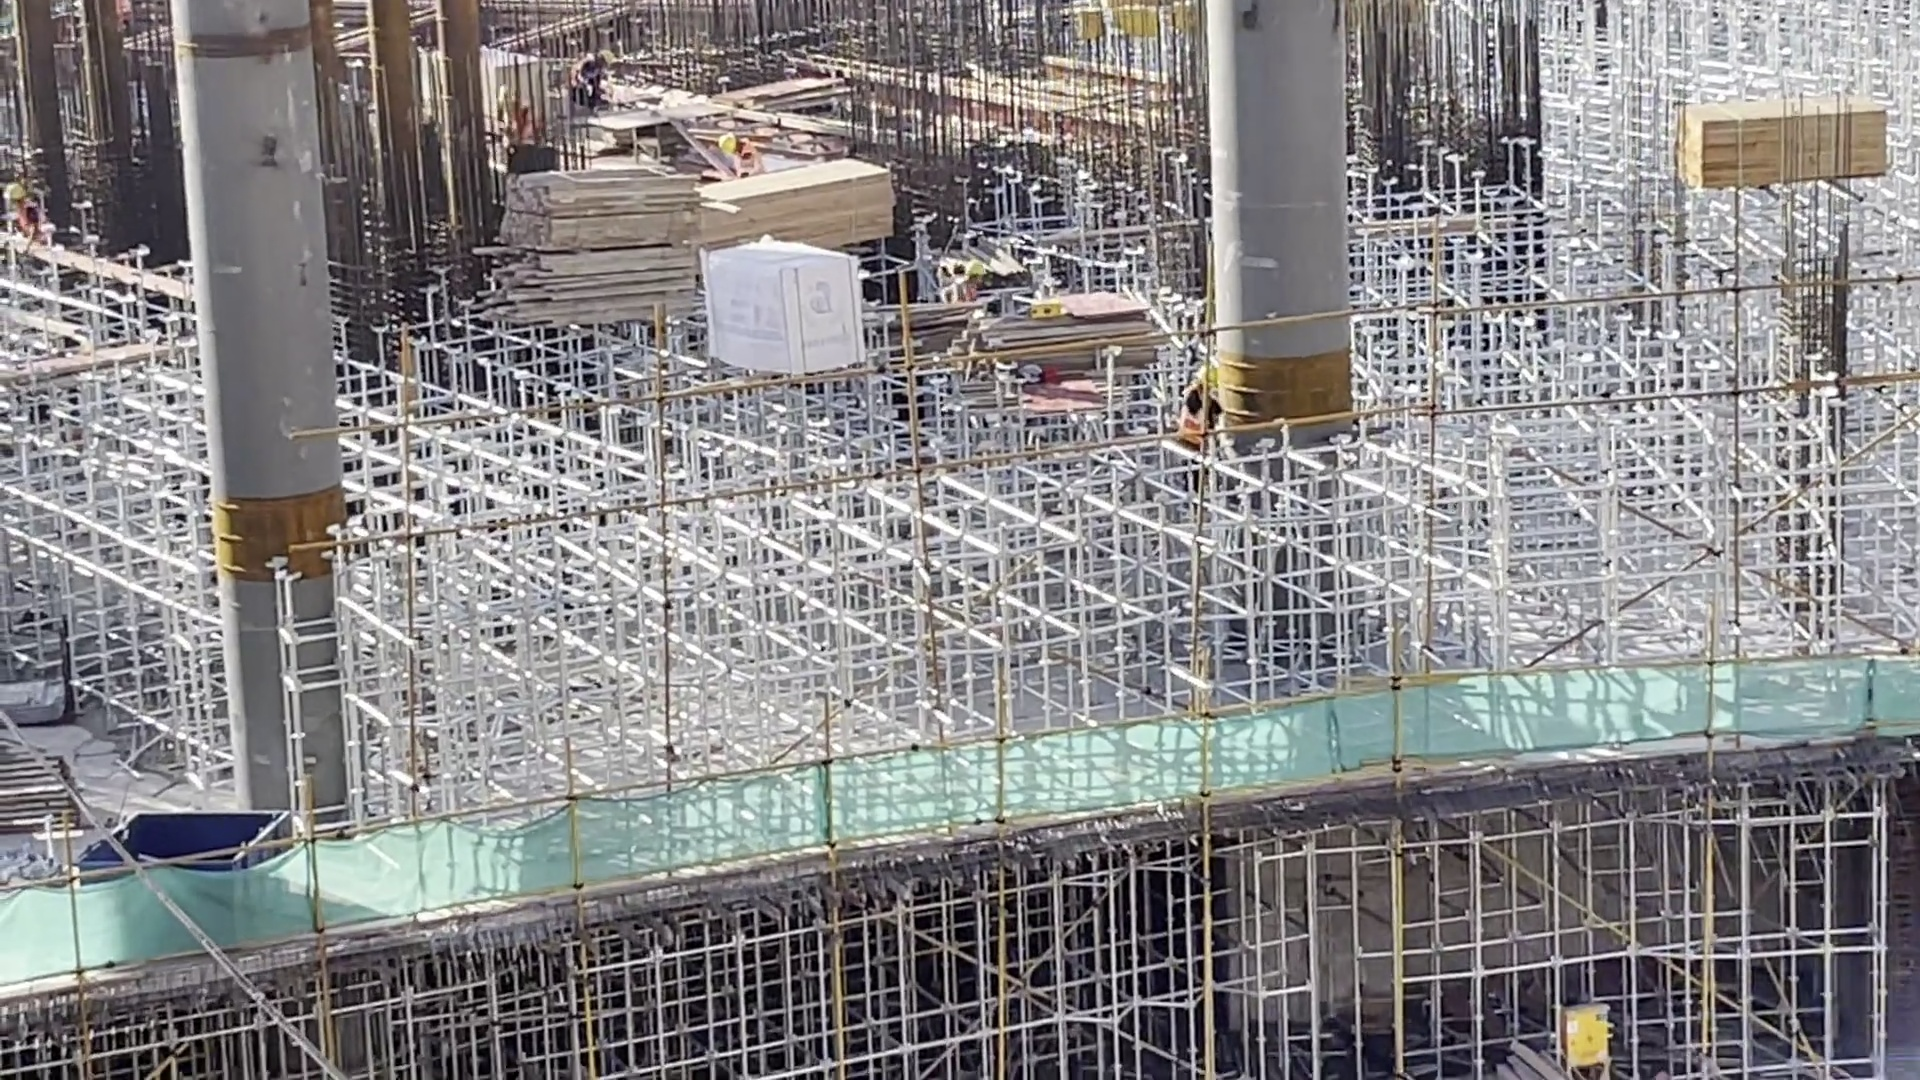board: (970, 286, 1162, 379)
ebox: (1566, 1000, 1616, 1080)
helmet: (1194, 367, 1218, 389), (716, 132, 738, 154), (968, 262, 986, 277), (601, 49, 615, 69)
hopper: (69, 811, 296, 871)
person: (1177, 365, 1222, 442), (567, 49, 617, 113), (717, 128, 768, 178), (954, 259, 986, 300)
vest: (1181, 388, 1208, 441), (735, 139, 763, 178)
wood: (471, 169, 700, 326), (1673, 90, 1889, 194), (707, 157, 899, 246), (1500, 1041, 1573, 1080)
